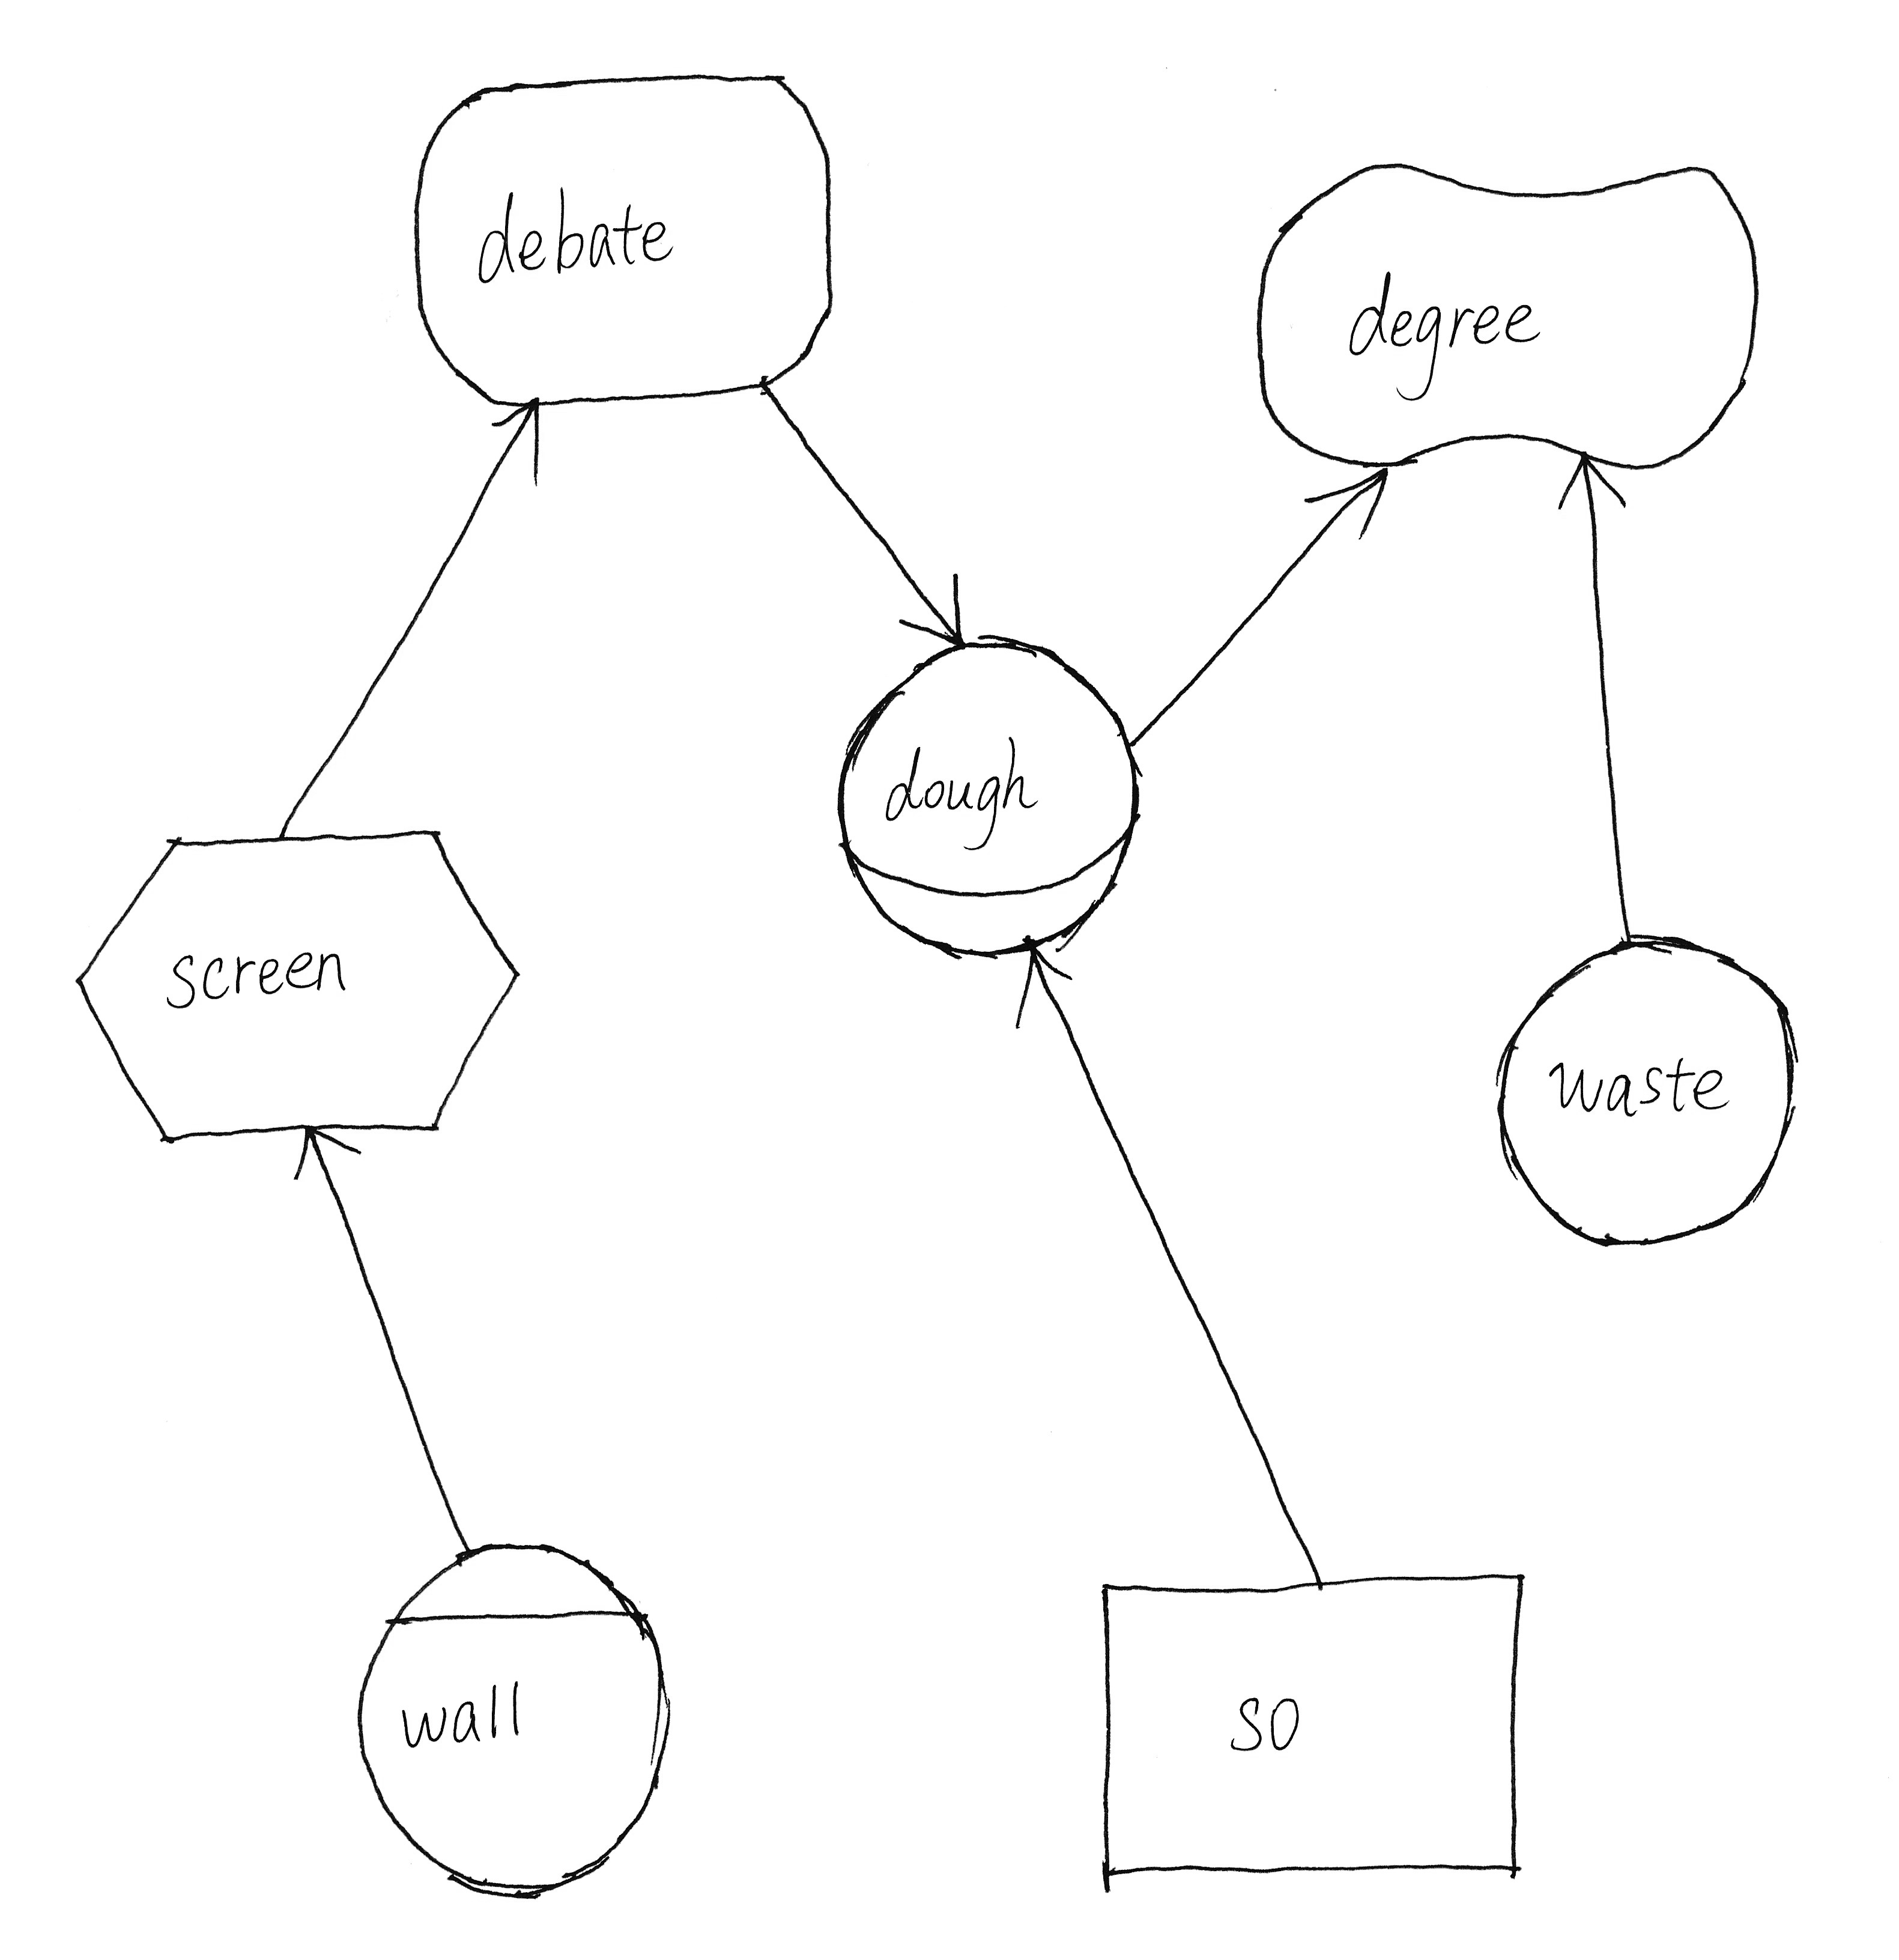actor: (1472, 919, 1827, 1258)
agent: (326, 1522, 693, 1920)
arrow: (1286, 451, 1428, 544), (879, 562, 1001, 665), (982, 913, 1083, 1034), (1533, 432, 1647, 532), (469, 383, 572, 490), (270, 1097, 373, 1202)
goal: (387, 44, 852, 430)
quality: (1236, 135, 1789, 490)
resource: (1075, 1549, 1572, 1906)
role: (819, 619, 1150, 975)
task: (54, 803, 539, 1165)
